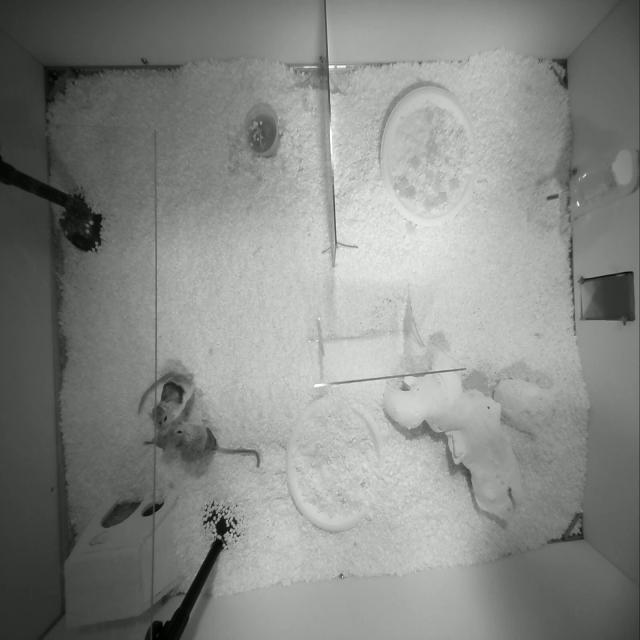adult_back: (170, 422, 260, 467)
adult_front: (139, 372, 195, 428)
pup_v_stripe: (144, 428, 171, 451)
